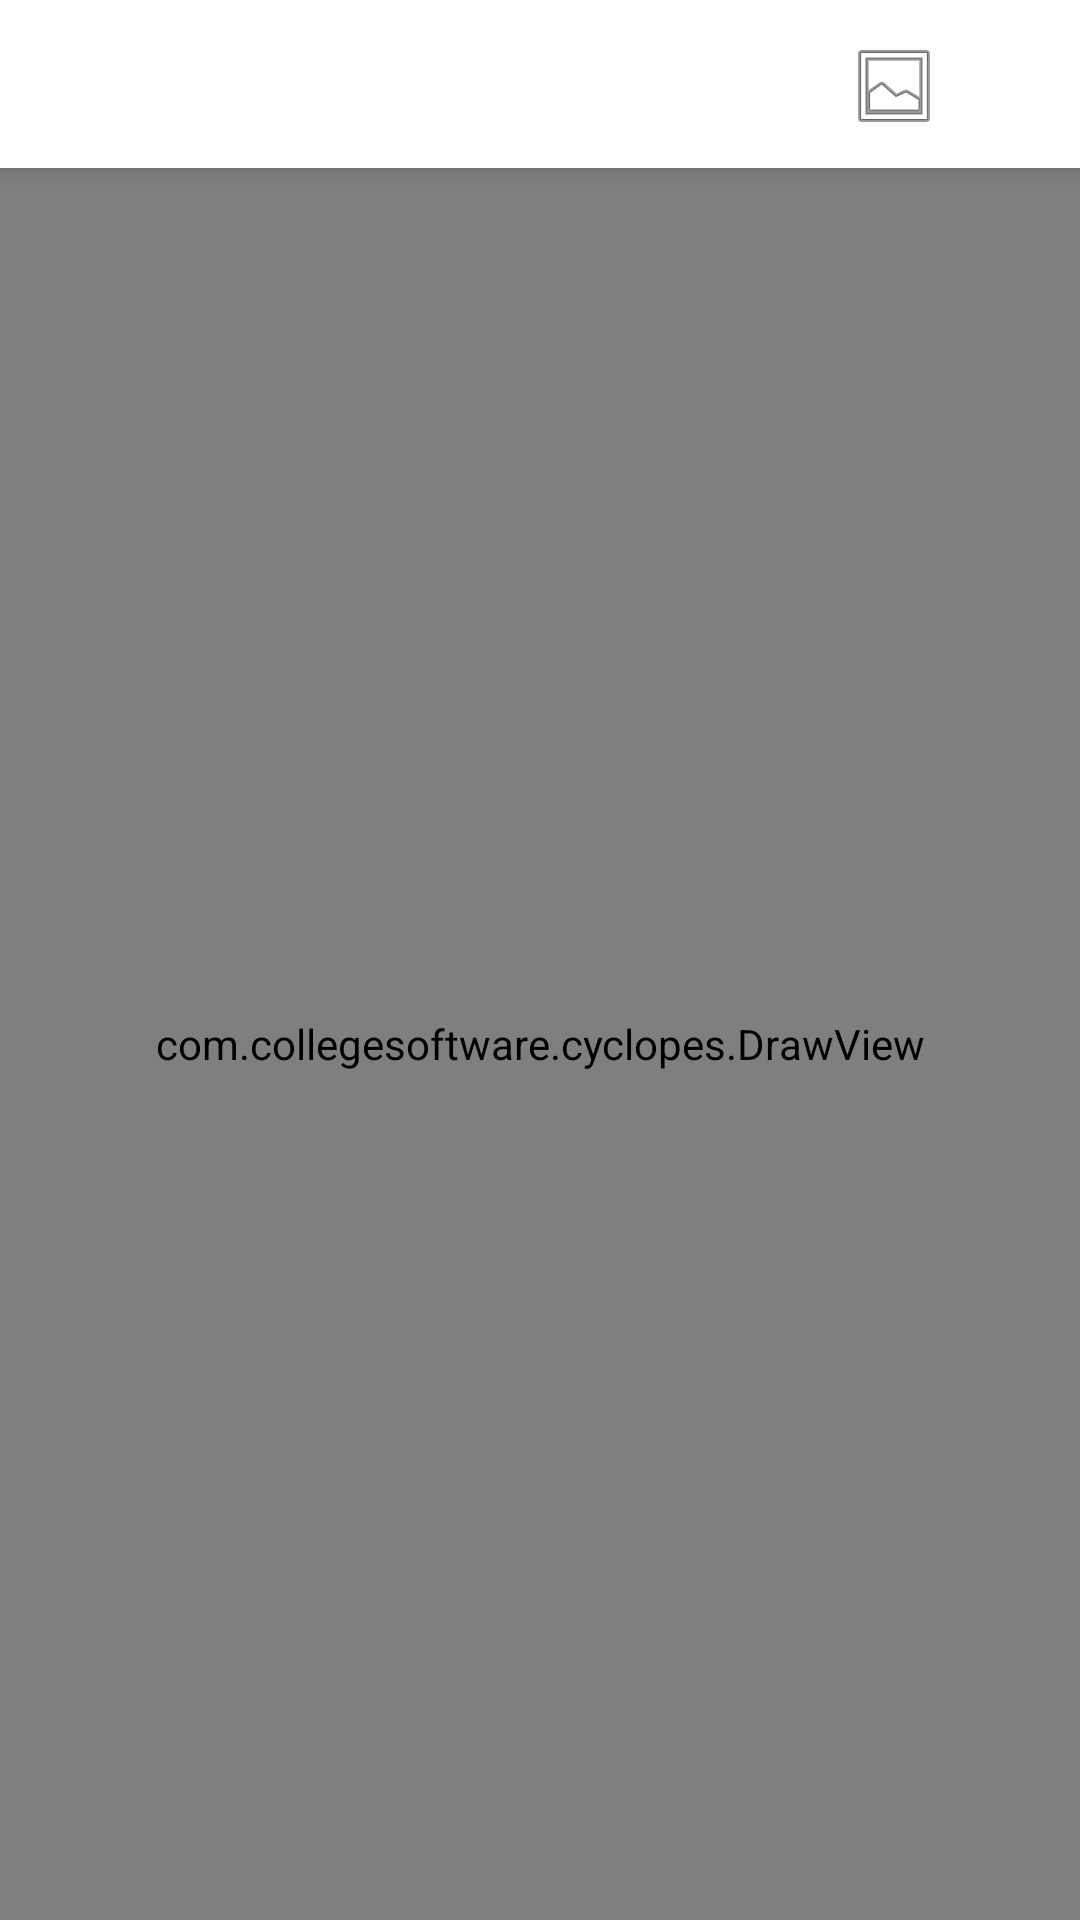

Icons on this 1080w x 1920h Android screen, each with its box as (x1, y1, x2, y2):
gallery: (858, 50, 930, 122)
